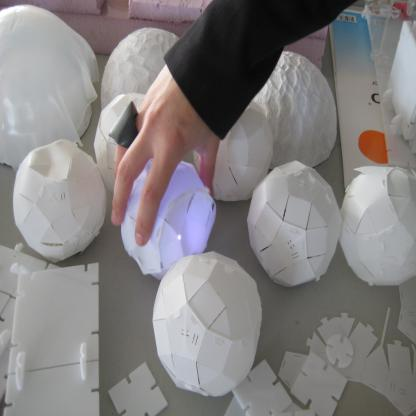Ball: (151, 250, 261, 396), (248, 162, 341, 286), (122, 162, 217, 280), (13, 141, 105, 260), (340, 164, 416, 286), (194, 103, 274, 203), (95, 94, 146, 190)
